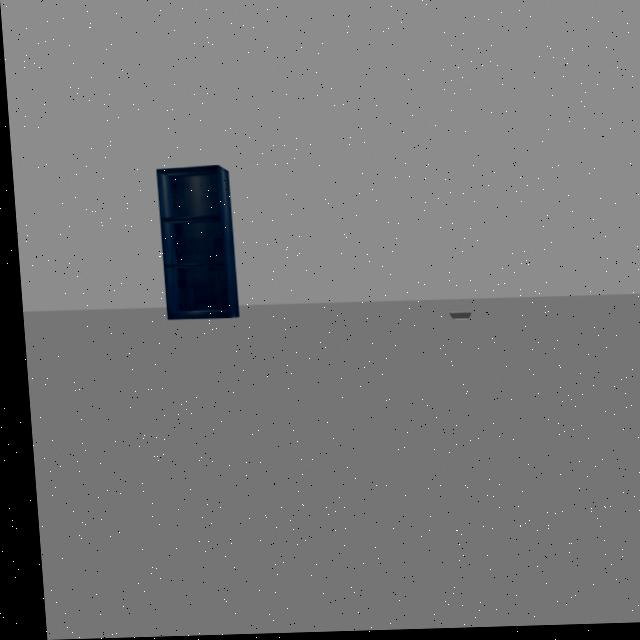bowl: (437, 310, 475, 331)
shelf: (142, 151, 244, 332)
